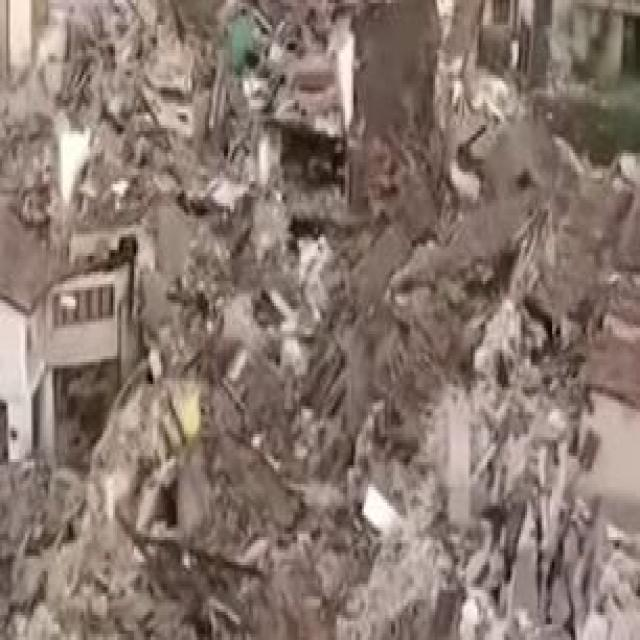collapsed_building: (126, 222, 552, 637), (0, 6, 328, 240)
